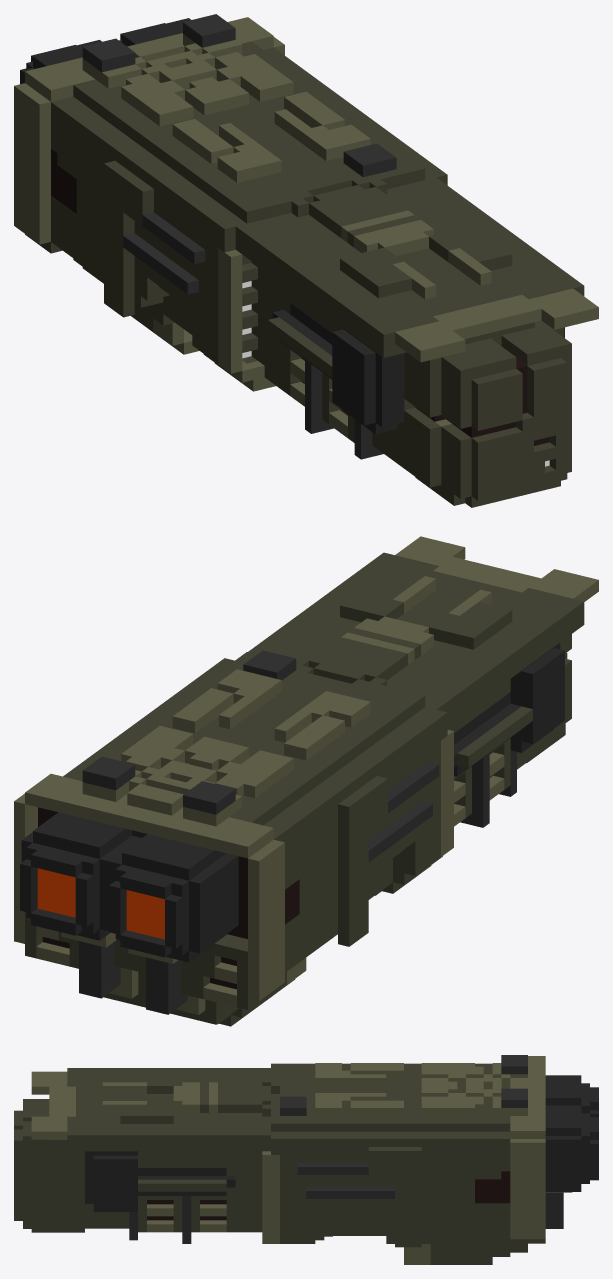
File: Body-35-StarMarine_Body.obj
3 views of the same model, one above another, from view 1: azimuth 30°, elevation 25°; view 2: azimuth 150°, elevation 25°; view 3: azimuth 270°, elevation 25° (orthographic). The views are drawn at different scales.
Visible parts, largest first — view 1: StarMarine_Body; view 2: StarMarine_Body; view 3: StarMarine_Body.
Part boxes in pixels (box(x1,y1,x2,y2)): StarMarine_Body: box(14, 14, 598, 507); StarMarine_Body: box(14, 536, 598, 1026); StarMarine_Body: box(14, 1055, 598, 1264).
Bounding box in the file's own units: 2.2 × 2.1 × 6.6.
